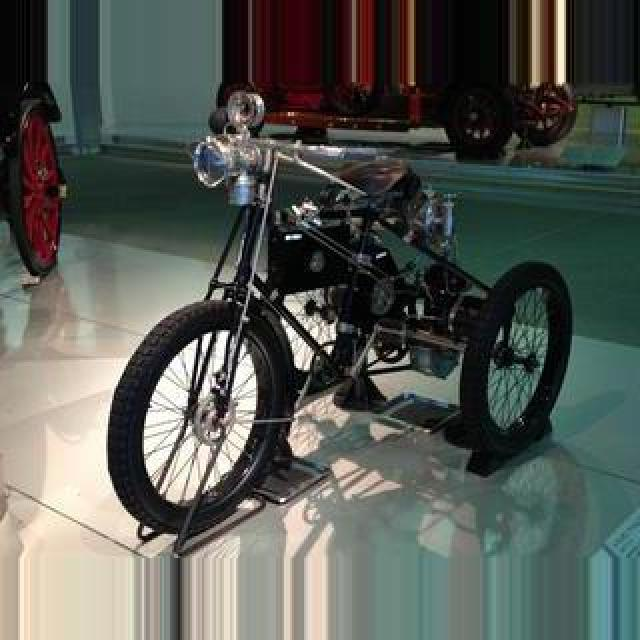Person: (100, 121, 588, 531)
